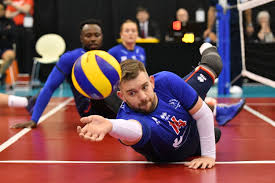ball: (71, 49, 122, 100)
